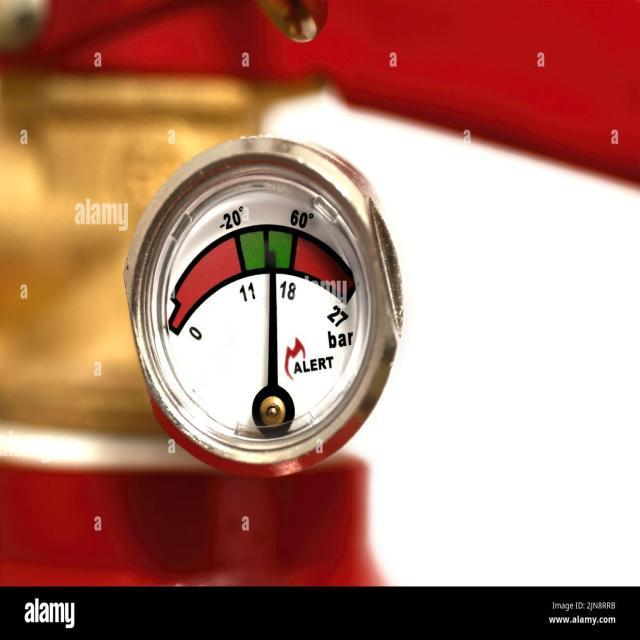pressure gauge: (125, 137, 401, 474)
